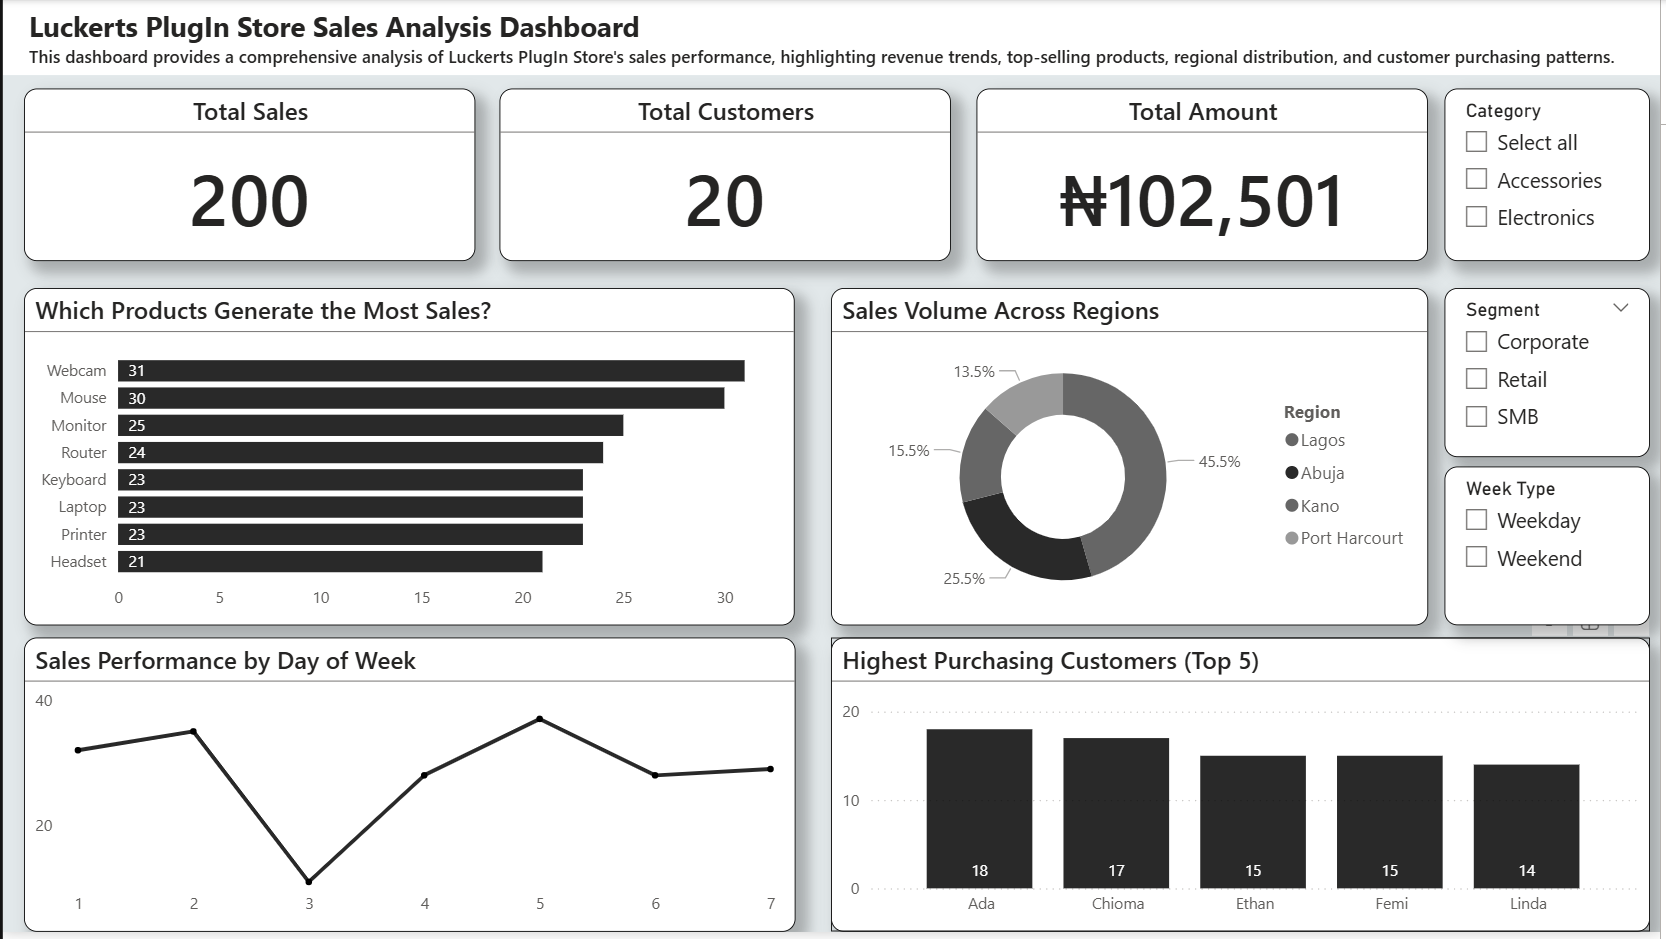

What the dashboard file says about the page in this screenshot:
{"tool":"powerbi","page":{"name":"Dashboard","canvas":[1280,720],"ordinal":0},"visuals":[{"type":"textbox","box":[0,0,1280.4,57.9],"z":0},{"type":"card","title":"Total Sales","fields":{"Values":["Sales.Total Sales"]},"box":[16.2,68.4,348.8,133.3],"z":1000},{"type":"card","title":"Total Customers","fields":{"Values":["Customers.Total Customers"]},"box":[383.5,68.4,348.8,133.3],"z":2000},{"type":"card","title":"Total Amount","fields":{"Values":["Sales.TotalPrice"]},"box":[752,68.4,348.8,133.3],"z":3000},{"type":"clusteredBarChart","title":"Which Products Generate the Most Sales?","fields":{"Category":["Products.ProductName"],"Y":["Sales.SaleID"]},"box":[16.2,222.5,595.6,260.7],"z":4000},{"type":"lineChart","title":"Sales Performance by Day of Week","fields":{"Category":["Sales.DAY OF WEEK"],"Y":["Sales.SaleID"]},"box":[16,493,596,227],"z":5000},{"type":"donutChart","title":"Sales Volume Across Regions","fields":{"Category":["Customers.Region"],"Y":["Sales.SaleID"]},"box":[639.6,222.5,461.2,260.7],"z":6000},{"type":"clusteredColumnChart","title":"Highest Purchasing Customers (Top 5)","fields":{"Category":["Customers.CustomerName"],"Y":["Sales.SaleID"]},"box":[639.6,492.5,632.7,227.1],"z":7000},{"type":"slicer","fields":{"Values":["Products.Category"]},"box":[1113.5,68.4,158.7,133.3],"z":8000},{"type":"slicer","fields":{"Values":["Customers.CustomerSegment"]},"box":[1113.5,222.5,158.7,130.9],"z":9000},{"type":"slicer","fields":{"Values":["Sales.Week Type"]},"box":[1113.5,360.4,158.7,122.8],"z":10000}]}

Visuals, with their boxes in screenshot pixels (x1, y1, x2, y2), scaled from the page's 1280x720 canvas onto the 1666x939 screenshot:
textbox: <bbox>0, 0, 1665, 76</bbox>
"Total Sales" card: <bbox>21, 89, 475, 263</bbox>
"Total Customers" card: <bbox>499, 89, 953, 263</bbox>
"Total Amount" card: <bbox>979, 89, 1433, 263</bbox>
"Which Products Generate the Most Sales?" clusteredBarChart: <bbox>21, 290, 796, 630</bbox>
"Sales Performance by Day of Week" lineChart: <bbox>21, 643, 797, 938</bbox>
"Sales Volume Across Regions" donutChart: <bbox>832, 290, 1433, 630</bbox>
"Highest Purchasing Customers (Top 5)" clusteredColumnChart: <bbox>832, 642, 1656, 938</bbox>
slicer - Products.Category: <bbox>1449, 89, 1656, 263</bbox>
slicer - Customers.CustomerSegment: <bbox>1449, 290, 1656, 461</bbox>
slicer - Sales.Week Type: <bbox>1449, 470, 1656, 630</bbox>
